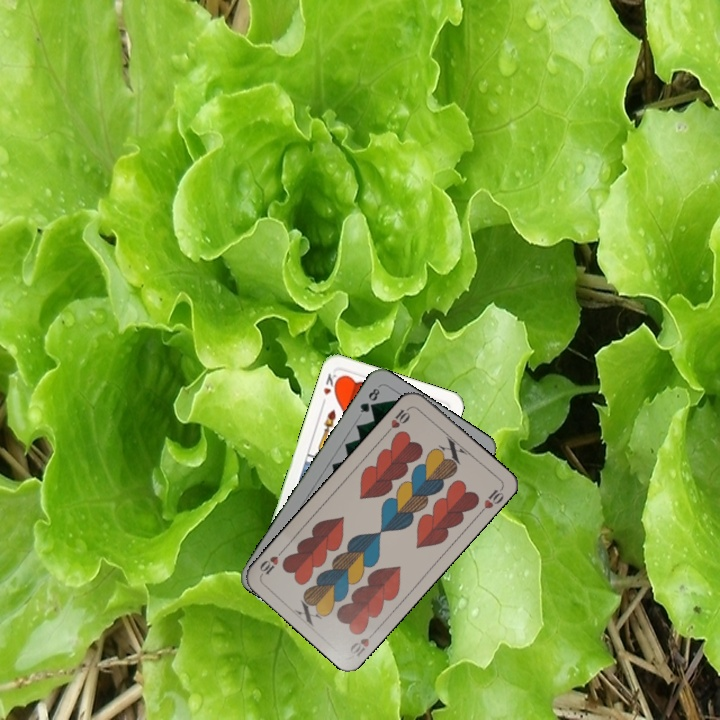G8: (356, 384, 382, 415)
H10: (346, 626, 380, 659), (382, 403, 413, 436)
HK: (319, 369, 342, 397)
